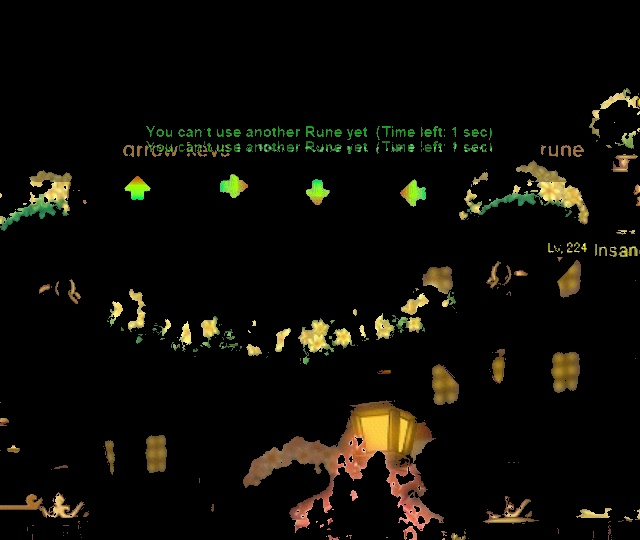down: (298, 174, 335, 216)
left: (392, 175, 434, 218)
right: (210, 168, 256, 209)
up: (118, 169, 158, 210)
